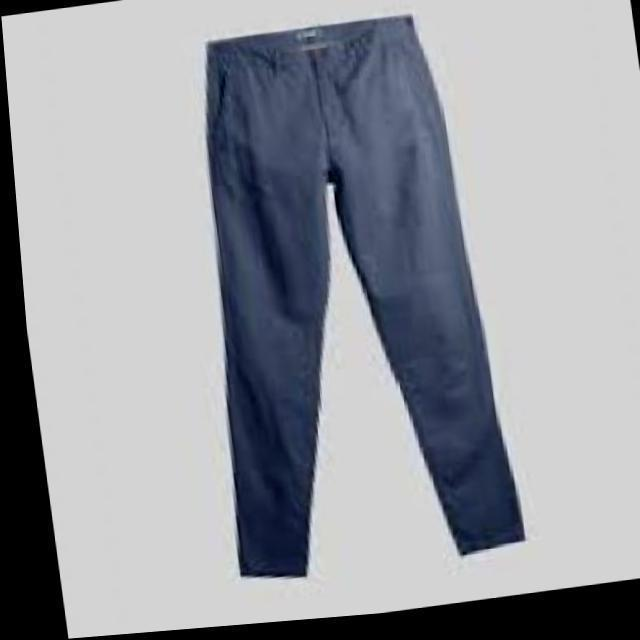pants: (193, 10, 531, 581)
